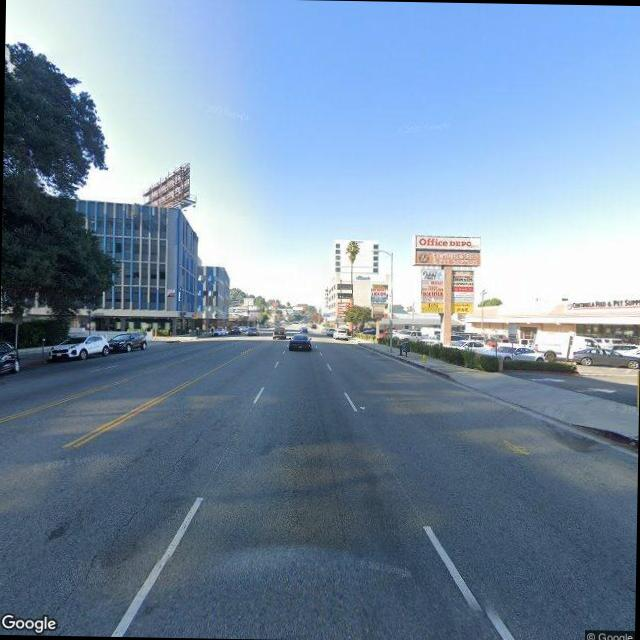pothole: (57, 428, 206, 607)
